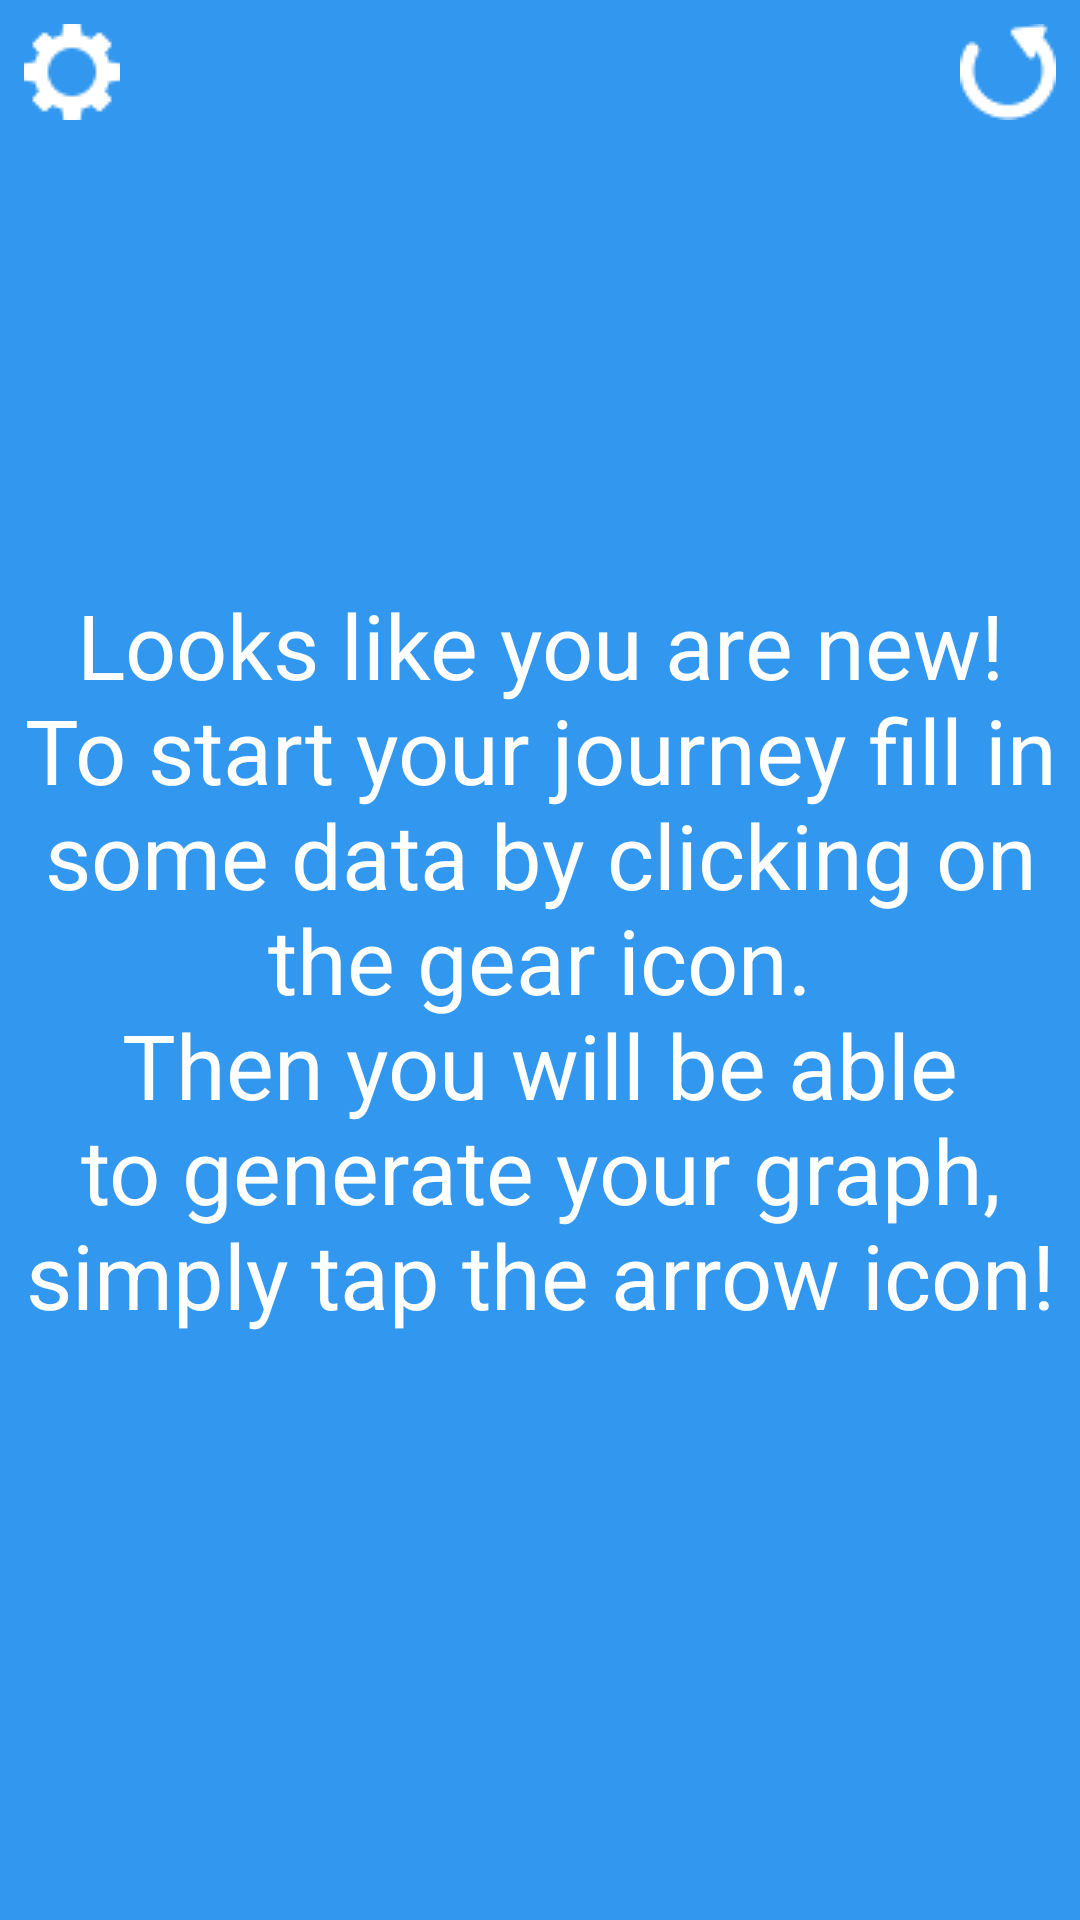

Locate icon controls on the screen. Image size 1080×1920, boxes as (x1, y1, x2, y2).
Parameters button: (24, 24, 120, 120)
Refresh graph button: (960, 24, 1056, 120)
